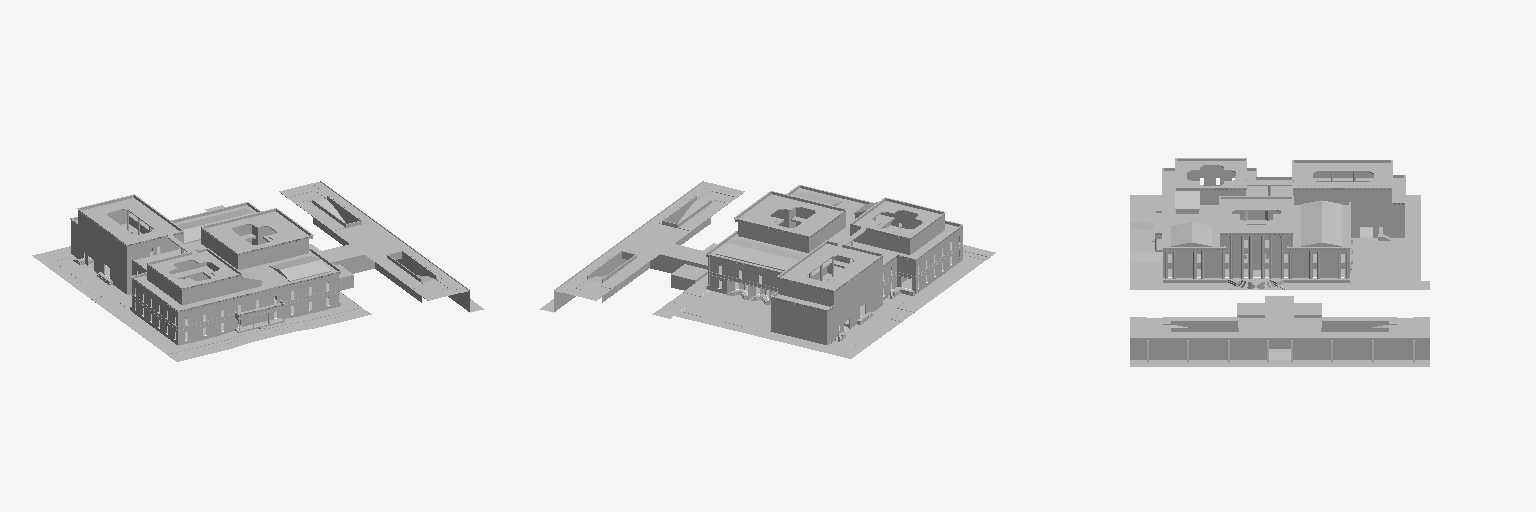
The model's file is AuctionMansion.obj.
The picture shows the model from 3 angles: view 1: azimuth 30°, elevation 25°; view 2: azimuth 150°, elevation 25°; view 3: azimuth 270°, elevation 25°; orthographic projection.
Visible parts, largest first — view 1: Outside_Plane.000, Grounds_Plane, Mainpart_Plane.047, garage_Plane.008, no-skylight-left_Plane.082; view 2: Outside_Plane.000, Grounds_Plane, Mainpart_Plane.047, garage_Plane.008, no-skylight-right_Plane.081; view 3: Grounds_Plane, Outside_Plane.000, Mainpart_Plane.047, garage_Plane.008, no-skylight-left_Plane.082, no-skylight-right_Plane.081.
Boxes of the visible parts, <box> form: Outside_Plane.000: <box>70,194,341,345</box>; Grounds_Plane: <box>32,181,483,361</box>; Mainpart_Plane.047: <box>83,210,329,339</box>; garage_Plane.008: <box>309,242,401,290</box>; no-skylight-left_Plane.082: <box>269,256,330,281</box>; Outside_Plane.000: <box>705,185,962,344</box>; Grounds_Plane: <box>540,181,995,358</box>; Mainpart_Plane.047: <box>718,208,960,332</box>; garage_Plane.008: <box>622,242,716,290</box>; no-skylight-right_Plane.081: <box>716,239,776,264</box>; Grounds_Plane: <box>1130,195,1429,366</box>; Outside_Plane.000: <box>1150,158,1405,288</box>; Mainpart_Plane.047: <box>1168,166,1382,276</box>; garage_Plane.008: <box>1237,296,1321,317</box>; no-skylight-left_Plane.082: <box>1171,222,1211,246</box>; no-skylight-right_Plane.081: <box>1301,222,1341,246</box>.
Bounding box in the file's own units: 87.25 × 19.7 × 73.5.